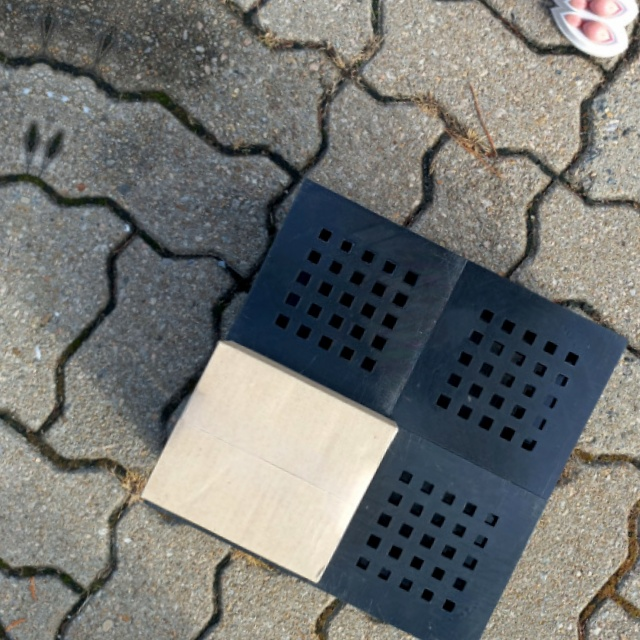box: (135, 333, 400, 589)
pallet: (136, 167, 635, 640)
